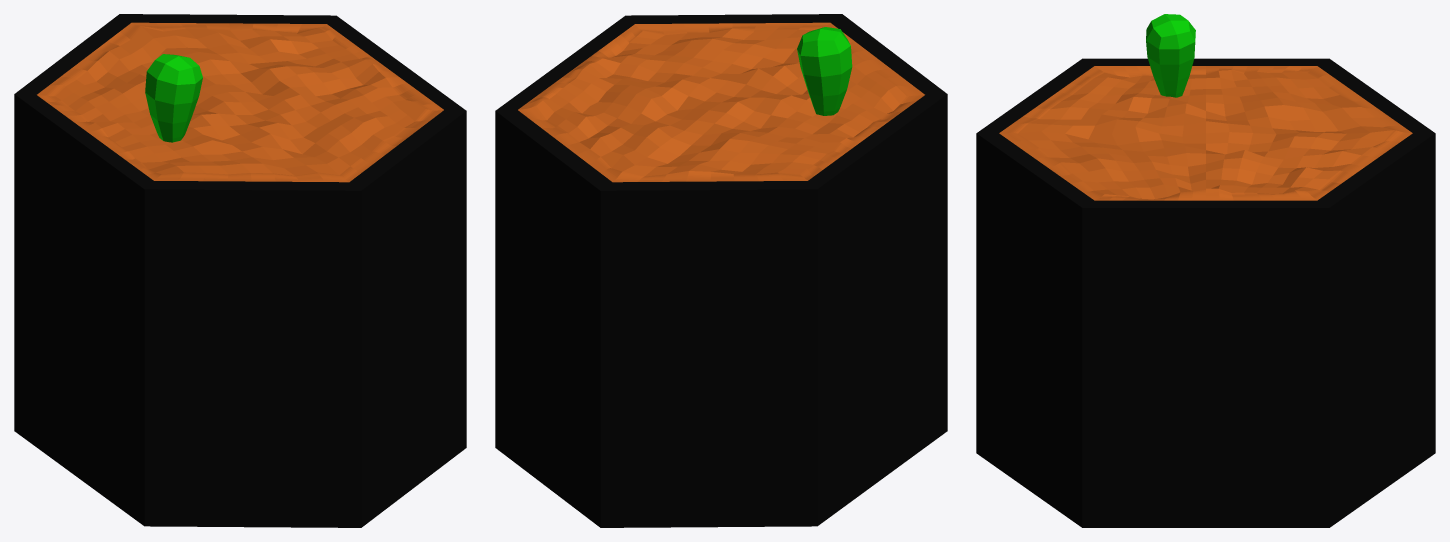
Rendered from desert-hex.obj.
The picture shows the model from 3 angles, left to right: view 1: azimuth 30°, elevation 25°; view 2: azimuth 150°, elevation 25°; view 3: azimuth 270°, elevation 25°; orthographic projection. The views are drawn at different scales.
Visible parts, largest first — view 1: Cube, Cube.002; view 2: Cube, Cube.002; view 3: Cube, Cube.002.
Boxes of the visible parts, x1=… form: Cube: x1=14, y1=14, x2=466, y2=527; Cube.002: x1=145, y1=54, x2=202, y2=142; Cube: x1=495, y1=14, x2=947, y2=527; Cube.002: x1=797, y1=27, x2=852, y2=115; Cube: x1=976, y1=58, x2=1435, y2=527; Cube.002: x1=1146, y1=14, x2=1195, y2=97.
Bounding box in the file's own units: 2 × 2.47 × 2.6.
